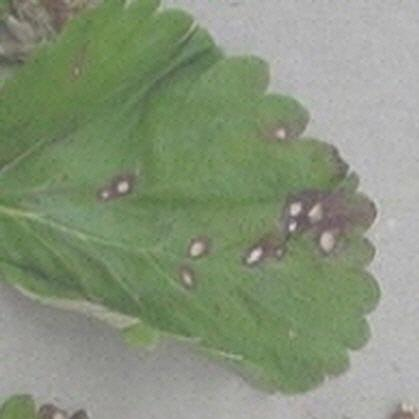Leaf Spot: (0, 0, 383, 396)
